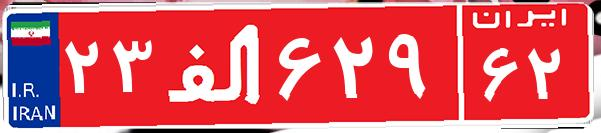2: (330, 28, 385, 110), (57, 26, 110, 107), (525, 38, 570, 115)
3: (110, 28, 158, 105)
6: (273, 28, 330, 110), (475, 38, 525, 113)
9: (385, 28, 445, 110)
الف: (158, 15, 273, 115)
